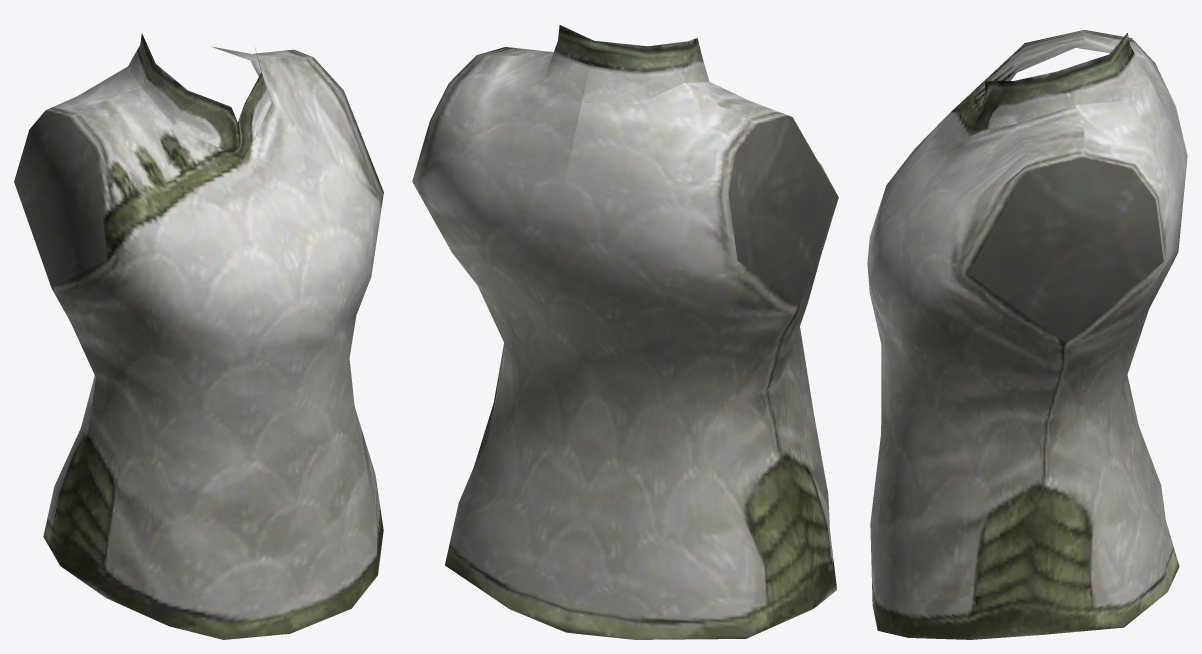
3 views of the same model, side by side, from view 1: azimuth 30°, elevation 25°; view 2: azimuth 150°, elevation 25°; view 3: azimuth 270°, elevation 25° (orthographic). The views are drawn at different scales.
Parts seen in each view (by area): view 1: clothes_01_ba; view 2: clothes_01_ba; view 3: clothes_01_ba.
Boxes of the visible parts, x1,y1,x2,y2 form: clothes_01_ba: [14, 33, 383, 639]; clothes_01_ba: [412, 25, 838, 639]; clothes_01_ba: [867, 30, 1187, 639].
Size of the model in its own units: 0.3533 by 0.5927 by 0.3002.
Materials: 1 (1 with a texture image).
